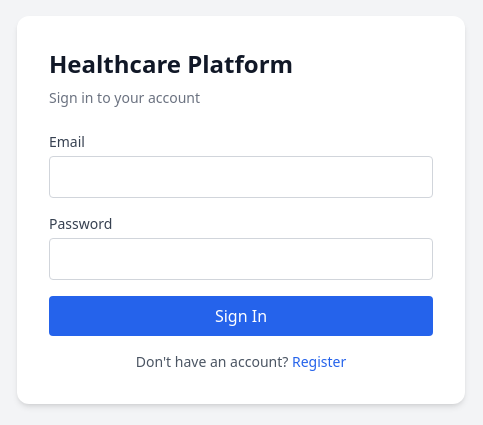
Test: LoginPage › disables submit button while loading
The image size is (483, 425).
In the field labelled "Email": (241, 177) [49, 156, 433, 198], type "doctor@test.com"
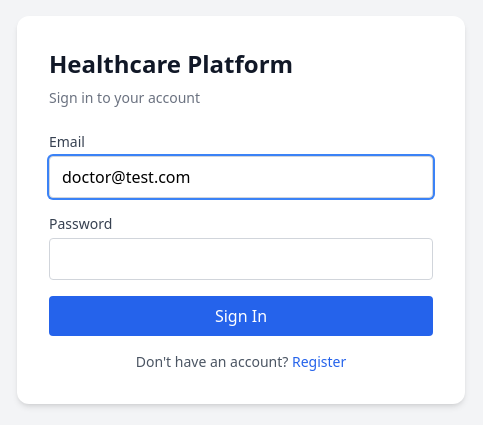
In the password field labelled "Password": (241, 259) [49, 238, 433, 280], type "password123"
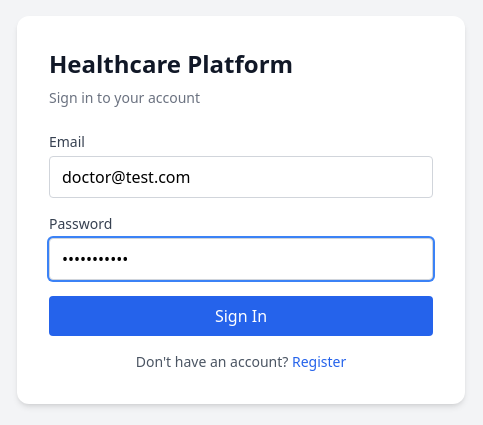
Click the button "Sign In": (241, 316) [49, 296, 433, 336]
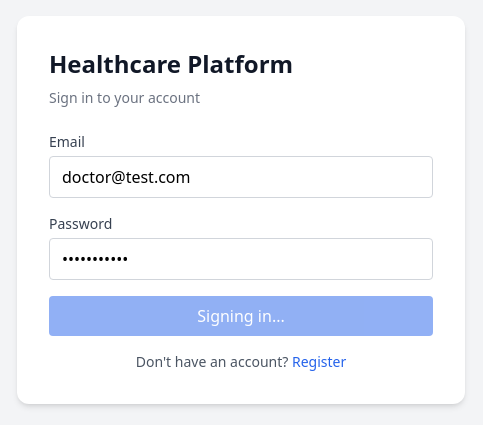
Check: the button "Signing in..." is disabled, box [49, 296, 433, 336]
